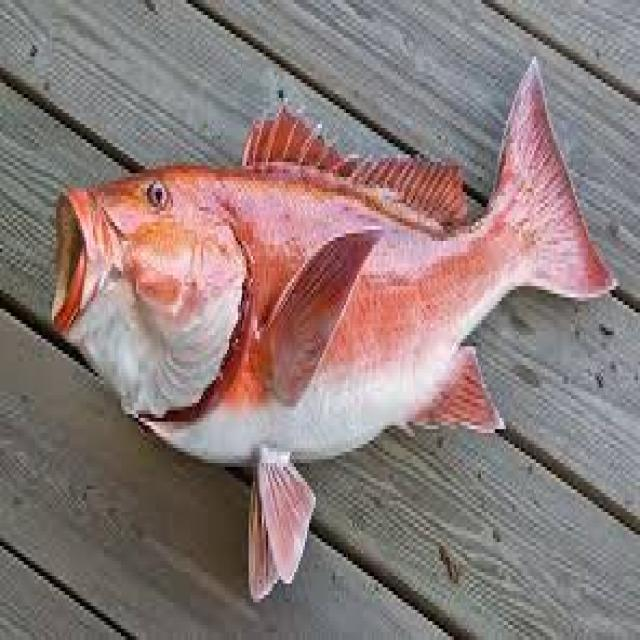northern-red-snapper: (35, 39, 619, 604)
